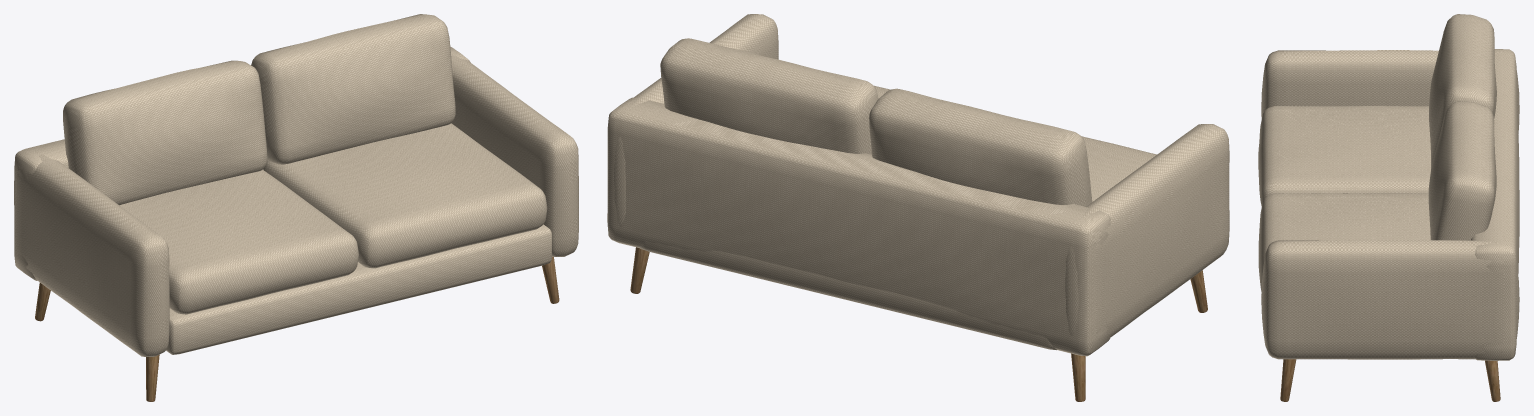
The model's file is sofa_nordico_2p.glb.
3 renders of one model, left to right at view 1: azimuth 30°, elevation 25°; view 2: azimuth 150°, elevation 25°; view 3: azimuth 270°, elevation 25°, orthographic. The views are drawn at different scales.
Visible parts, largest first — view 1: sofa_nordico_2p; view 2: sofa_nordico_2p; view 3: sofa_nordico_2p.
Part boxes in pixels (bbox=[...]): sofa_nordico_2p: bbox=[14, 14, 578, 401]; sofa_nordico_2p: bbox=[607, 14, 1229, 401]; sofa_nordico_2p: bbox=[1258, 14, 1519, 401].
Size of the model in its own units: 1.66 by 0.8051 by 0.891.
Materials: 2 (2 with a texture image).
